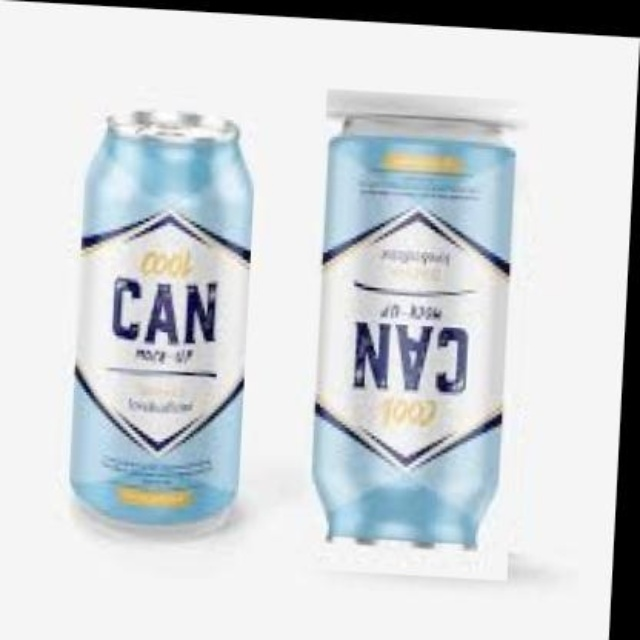trash: (314, 91, 514, 545), (71, 111, 251, 525)
